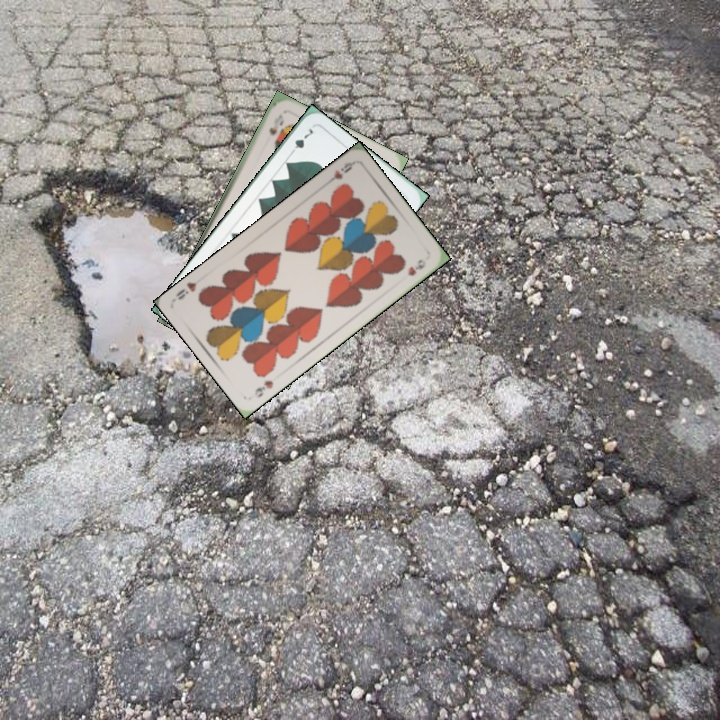G7: (285, 124, 317, 158)
H9: (321, 158, 356, 188), (250, 376, 276, 400)
SO: (265, 111, 287, 138)
